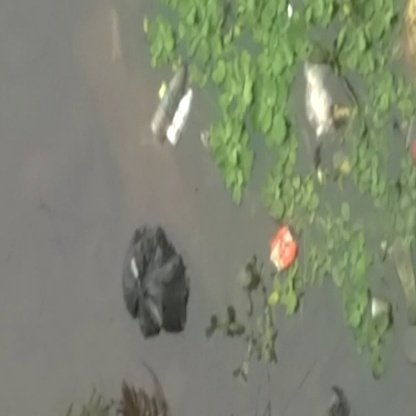plastic-bag: (125, 224, 195, 340)
